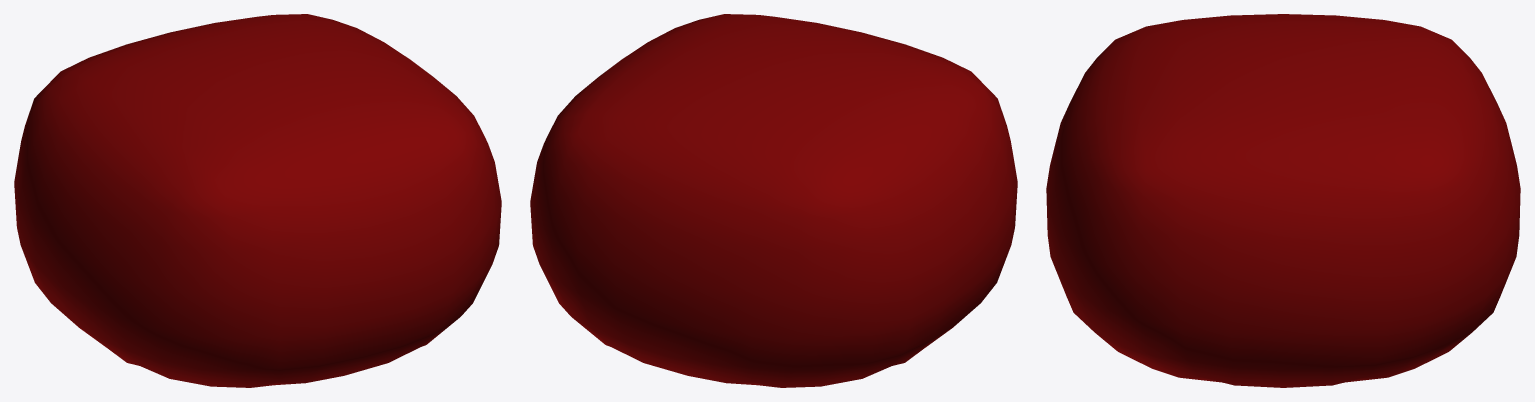
The model's file is Pouf1_7.fbx.
3 renders of one model, left to right at view 1: azimuth 30°, elevation 25°; view 2: azimuth 150°, elevation 25°; view 3: azimuth 270°, elevation 25°, orthographic. The views are drawn at different scales.
Visible parts, largest first — view 1: pCube2898; view 2: pCube2898; view 3: pCube2898.
Part boxes in pixels (<box>): pCube2898: <box>14,14,501,387</box>; pCube2898: <box>530,14,1017,387</box>; pCube2898: <box>1046,14,1520,387</box>.
Size of the model in its own units: 34.57 by 23.24 by 34.56.
